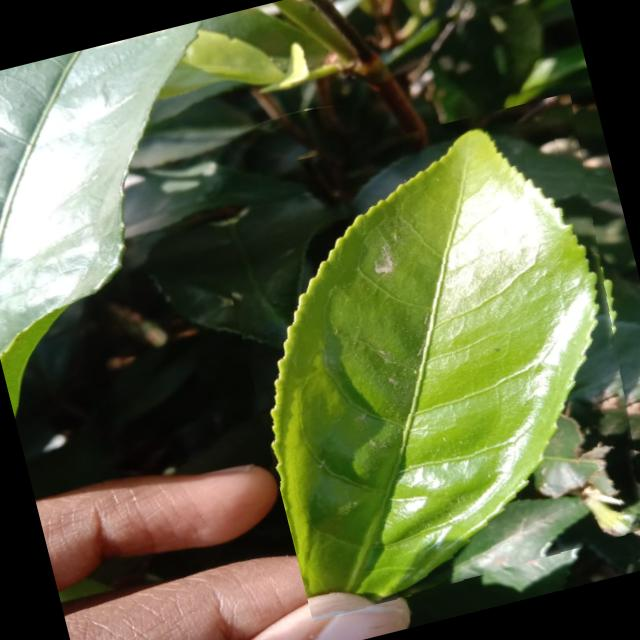Category B(2-4 days): (203, 91, 640, 622)
